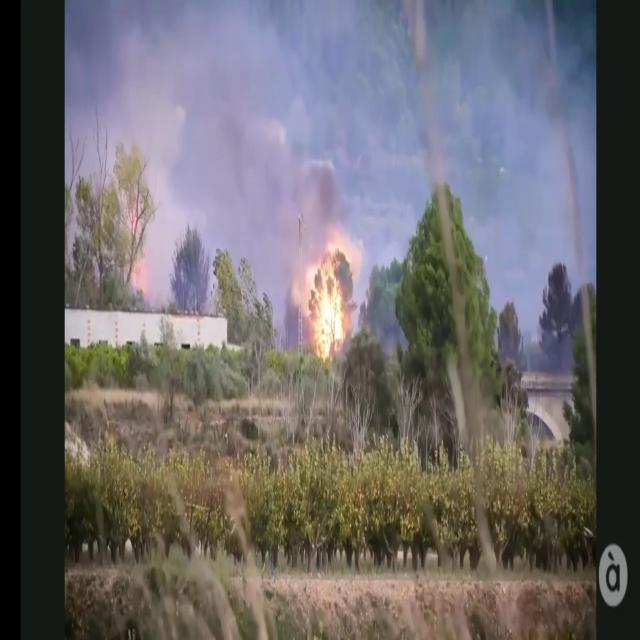Fire: (301, 236, 354, 359)
Smoke: (123, 0, 597, 311)
